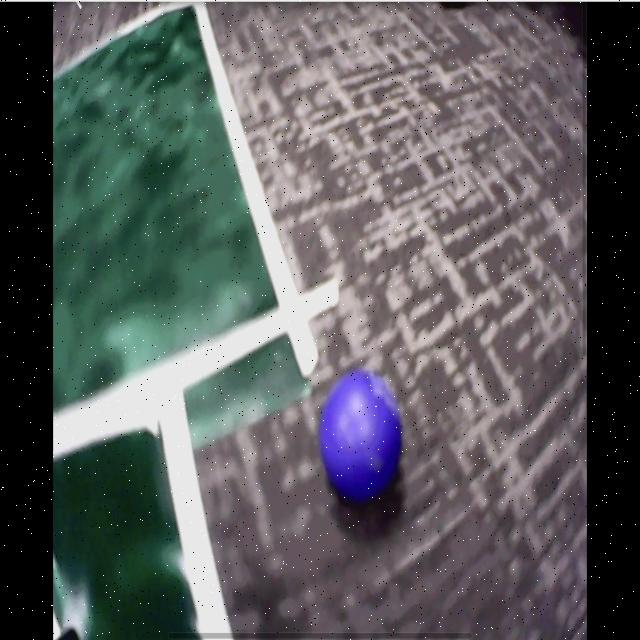ball: (321, 375, 403, 497)
